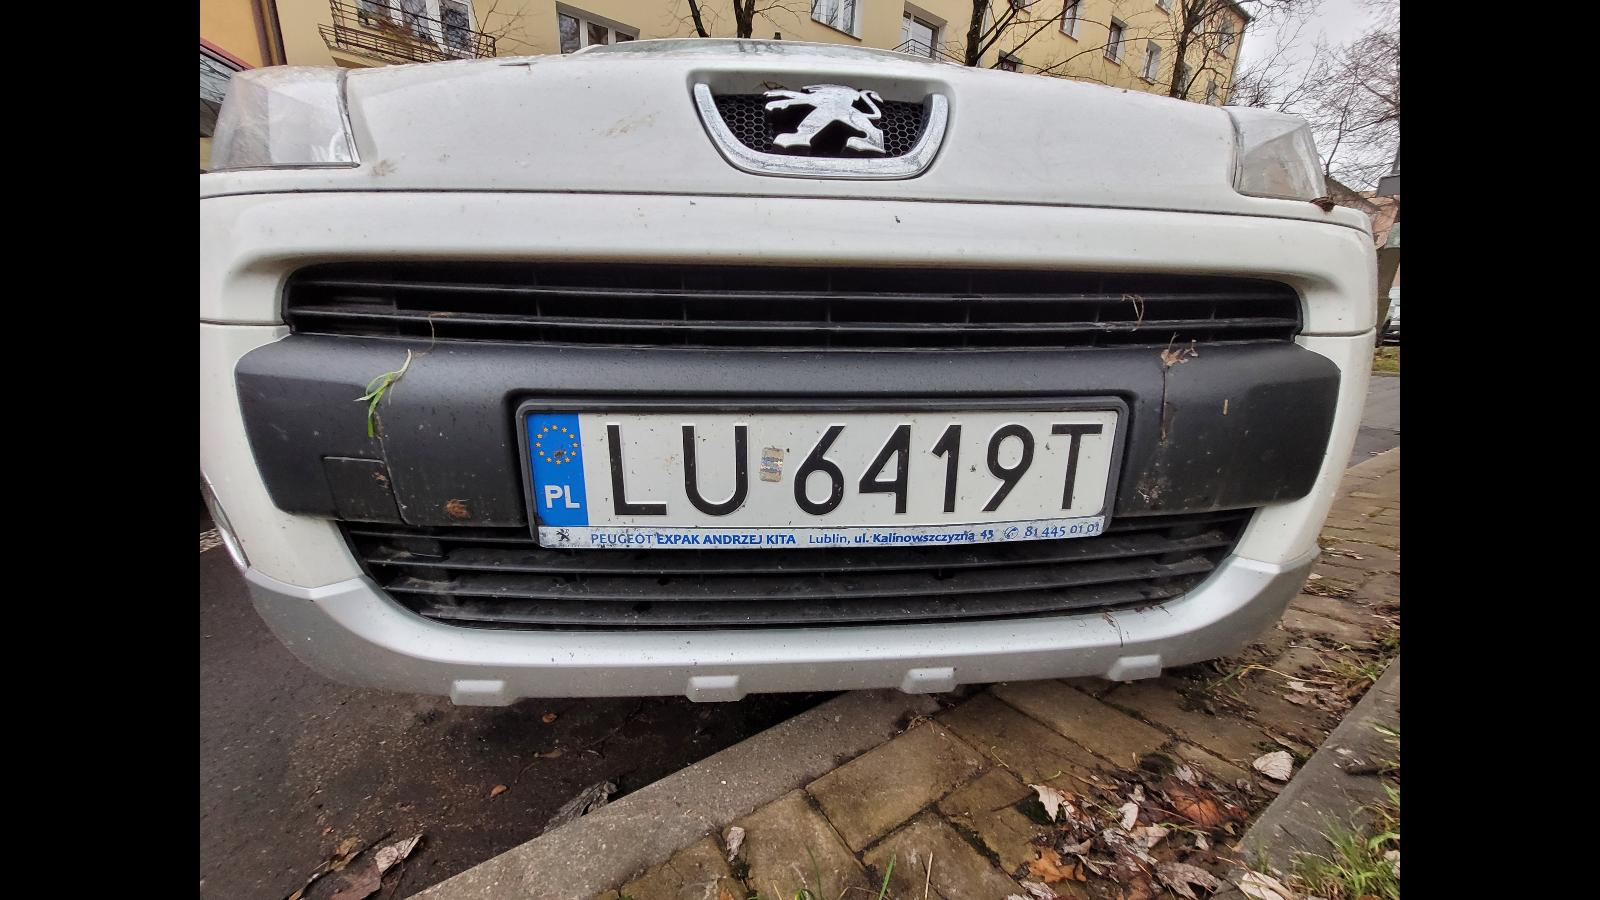plates: (516, 395, 1132, 557)
